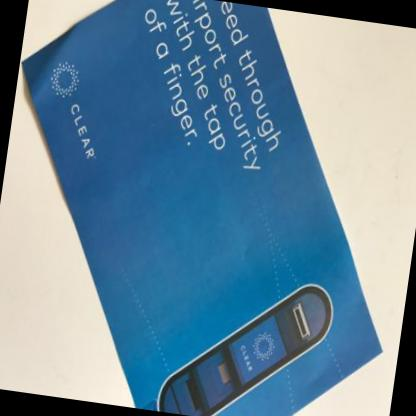Paper: (20, 0, 380, 416)
